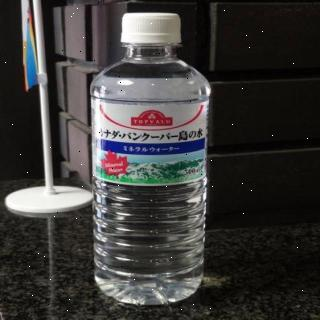Plastic-bottle: (85, 8, 217, 308)
